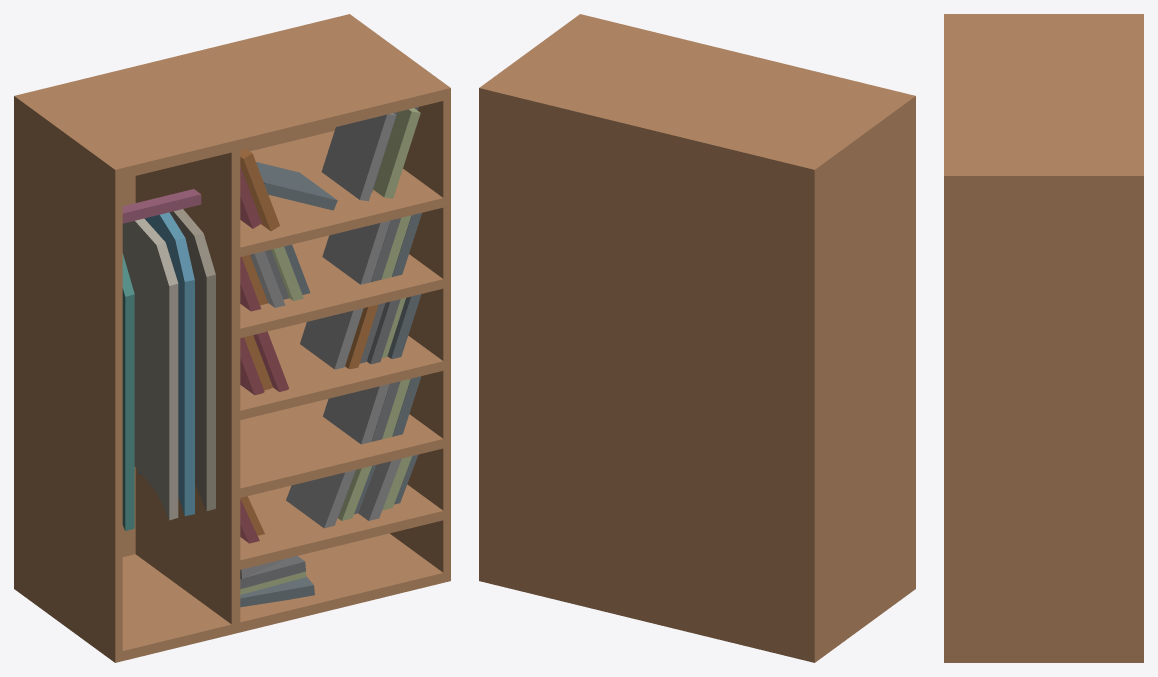
The model's file is book shelf.fbx.
The picture shows the model from 3 angles, left to right: view 1: azimuth 30°, elevation 25°; view 2: azimuth 150°, elevation 25°; view 3: azimuth 270°, elevation 25°; orthographic projection.
Visible parts, largest first — view 1: shelf3; view 2: shelf3; view 3: shelf3.
Boxes of the visible parts, x1,y1,x2,y2 form: shelf3: (14, 14, 450, 662); shelf3: (479, 14, 915, 662); shelf3: (944, 14, 1143, 662).
Size of the model in its own units: 88.81 by 125 by 46.32.
1 material, 1 textured.
